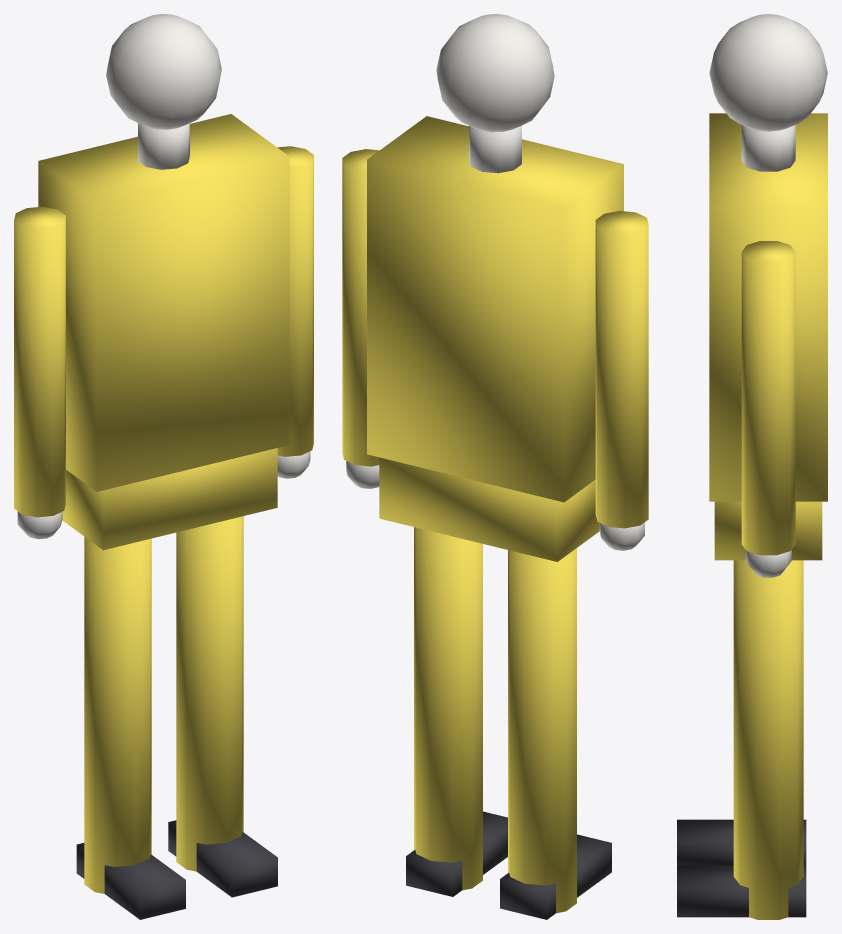
The model's file is SM_MannequinCustodian.fbx.
3 views of the same model, side by side, from view 1: azimuth 30°, elevation 25°; view 2: azimuth 150°, elevation 25°; view 3: azimuth 270°, elevation 25° (orthographic). The views are drawn at different scales.
Parts seen in each view (by area): view 1: SM_MannequinCustodian; view 2: SM_MannequinCustodian; view 3: SM_MannequinCustodian.
Part boxes in pixels (box(x1,y1,x2,y2)): SM_MannequinCustodian: box(14, 14, 313, 919); SM_MannequinCustodian: box(342, 14, 648, 919); SM_MannequinCustodian: box(677, 14, 827, 919).
Size of the model in its own units: 0.6069 by 1.69 by 0.2676.
